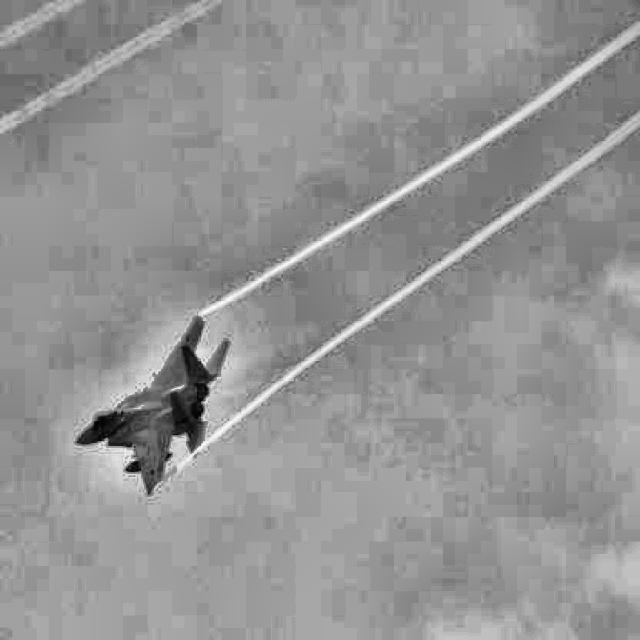F15: (75, 315, 230, 496)
